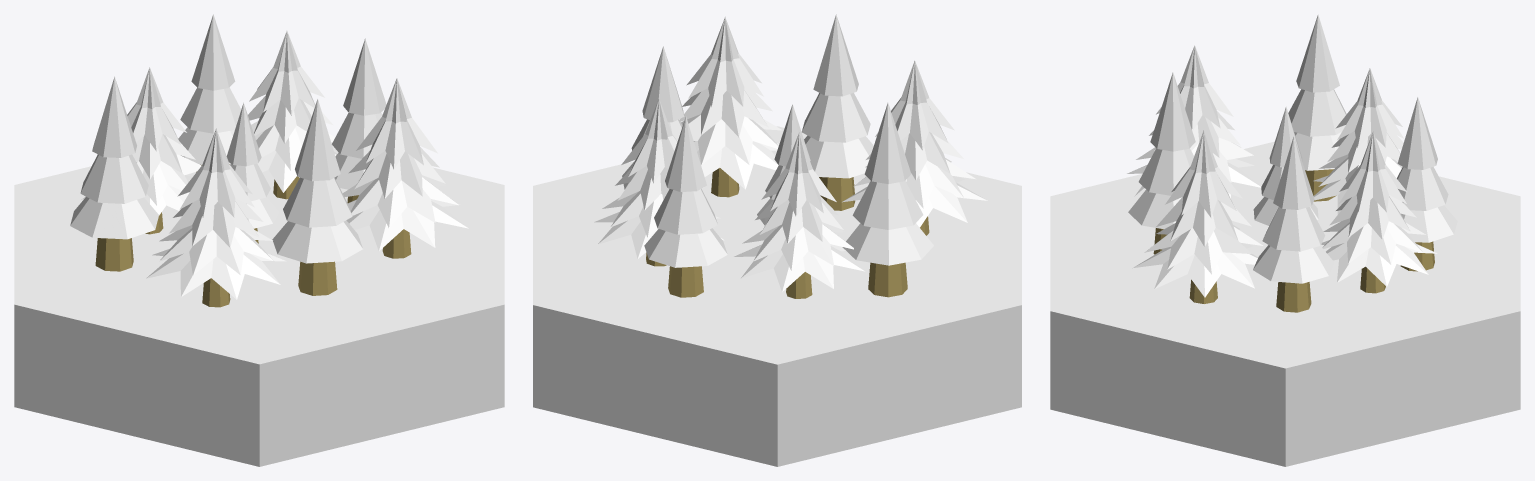
Rendered from Bosque_Pinos_Nieve.fbx.
3 renders of one model, left to right at view 1: azimuth 30°, elevation 25°; view 2: azimuth 150°, elevation 25°; view 3: azimuth 270°, elevation 25°, orthographic. The views are drawn at different scales.
Parts seen in each view (by area): view 1: Bosque_Pinos_Nieve; view 2: Bosque_Pinos_Nieve; view 3: Bosque_Pinos_Nieve.
Boxes of the visible parts, x1,y1,x2,y2 form: Bosque_Pinos_Nieve: (14,14,504,466); Bosque_Pinos_Nieve: (533,14,1021,466); Bosque_Pinos_Nieve: (1050,14,1520,466).
Size of the model in its own units: 200 by 114 by 173.
